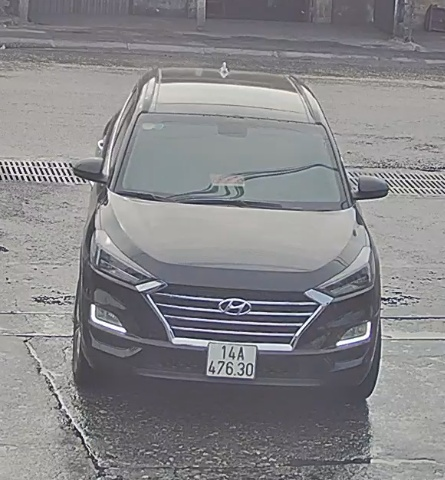vehicle plate: (206, 338, 258, 383)
